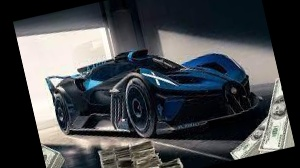car: (38, 22, 265, 159)
